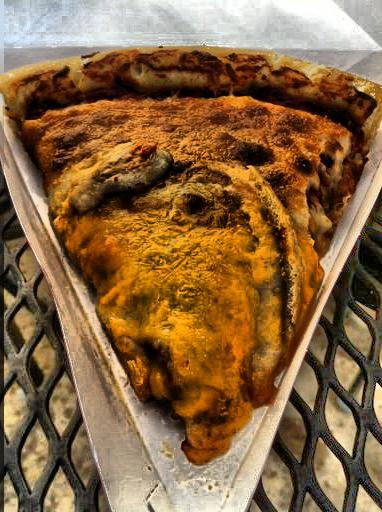pizza: (86, 51, 374, 464)
